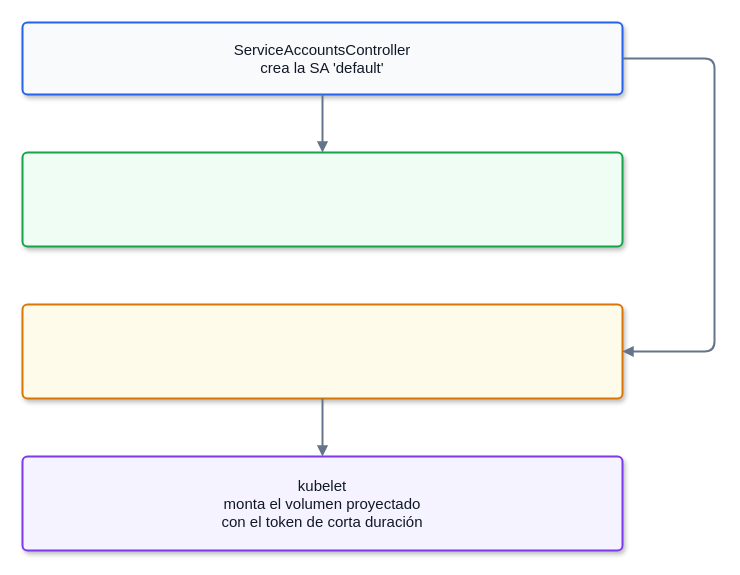
Some shapes in this 740 by 575 pixel diagram are drawn without their labels. Here are the shapes that lost their labels. From the top down, the centre of each, then its label:
At point (323, 200): "TokensController crea el Secret de token (solo si se usa el mecanismo legacy)".
At point (323, 352): "ServiceAccount AdmissionController inyecta el token en el Pod".
